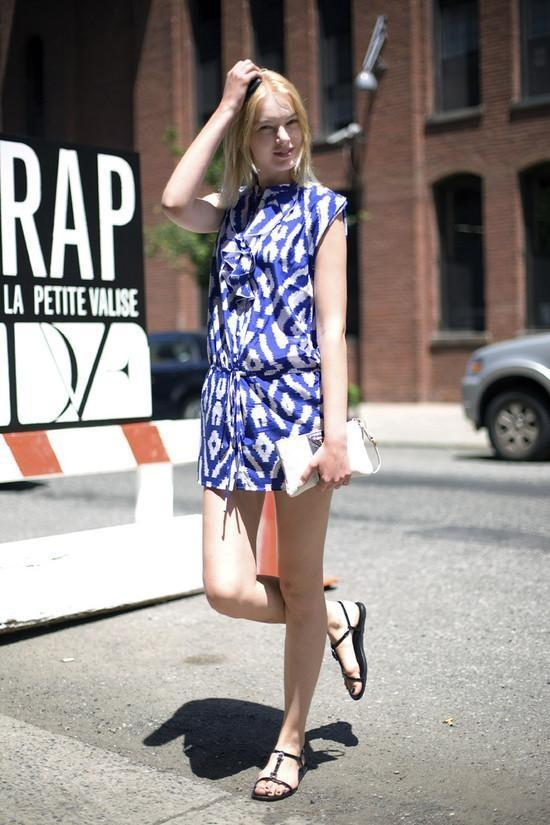dress: (197, 179, 347, 490)
